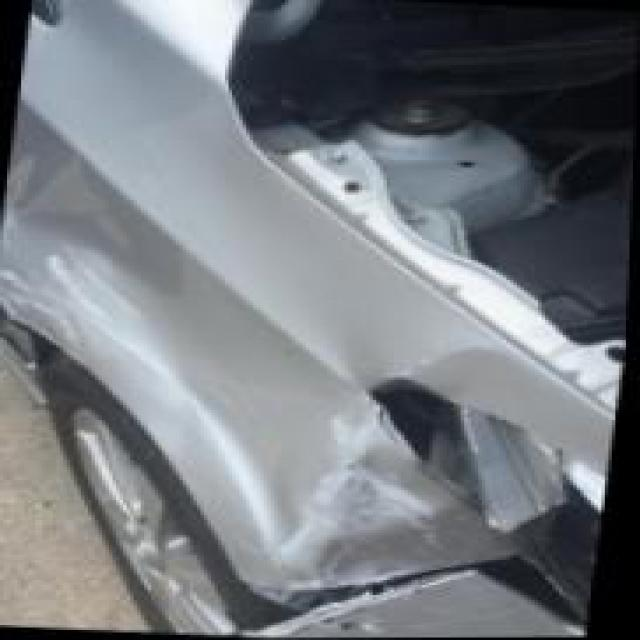Bumper: (248, 569, 589, 639)
Fender: (194, 388, 520, 598)
